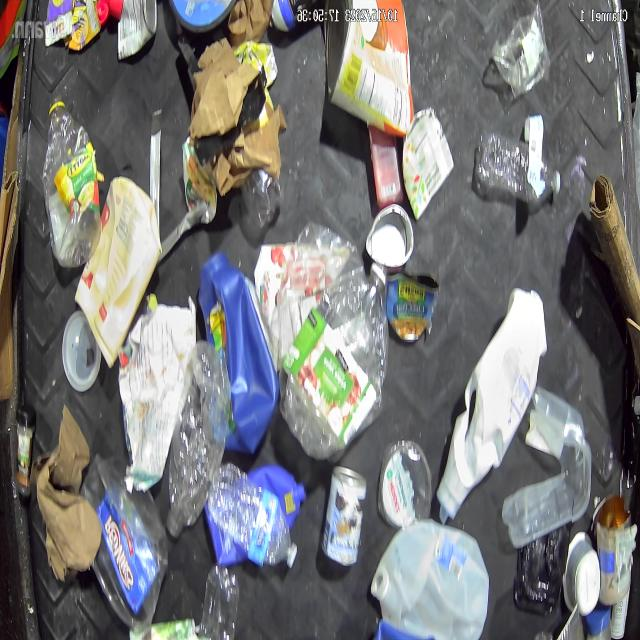can: (323, 0, 416, 142), (590, 490, 638, 607), (320, 463, 367, 569), (385, 270, 441, 347), (364, 200, 416, 272), (561, 529, 601, 618), (117, 0, 159, 66)
milk_jug: (438, 289, 548, 527), (368, 518, 491, 640)
non_white_jug: (196, 250, 280, 457), (248, 462, 304, 525)
plastic_bottle: (280, 261, 388, 462), (80, 455, 168, 633), (164, 339, 232, 542), (40, 95, 102, 272), (206, 462, 298, 570), (474, 109, 562, 212), (376, 438, 431, 530), (200, 564, 239, 640)
